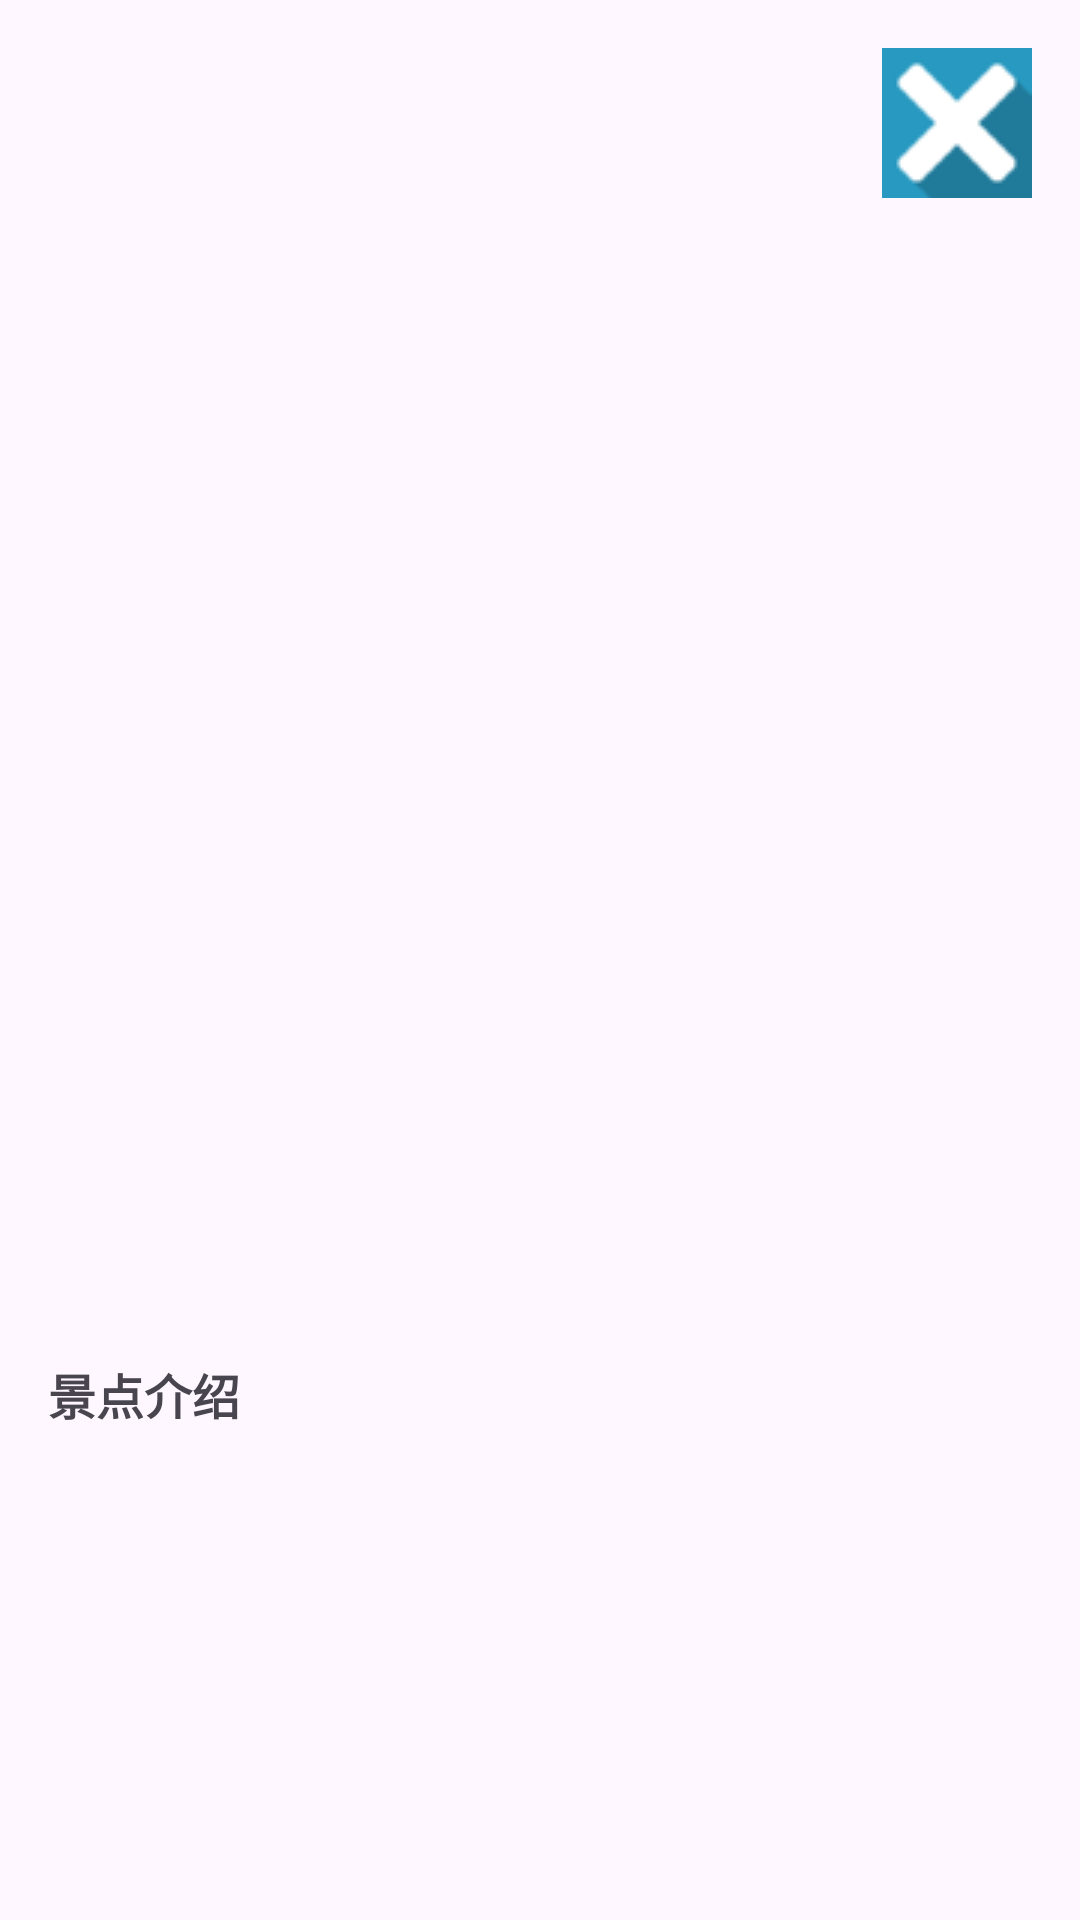

Named icons in this screenshot (1080 × 1920) and their centers, (x=x, y=y):
关闭: (x=957, y=123)
